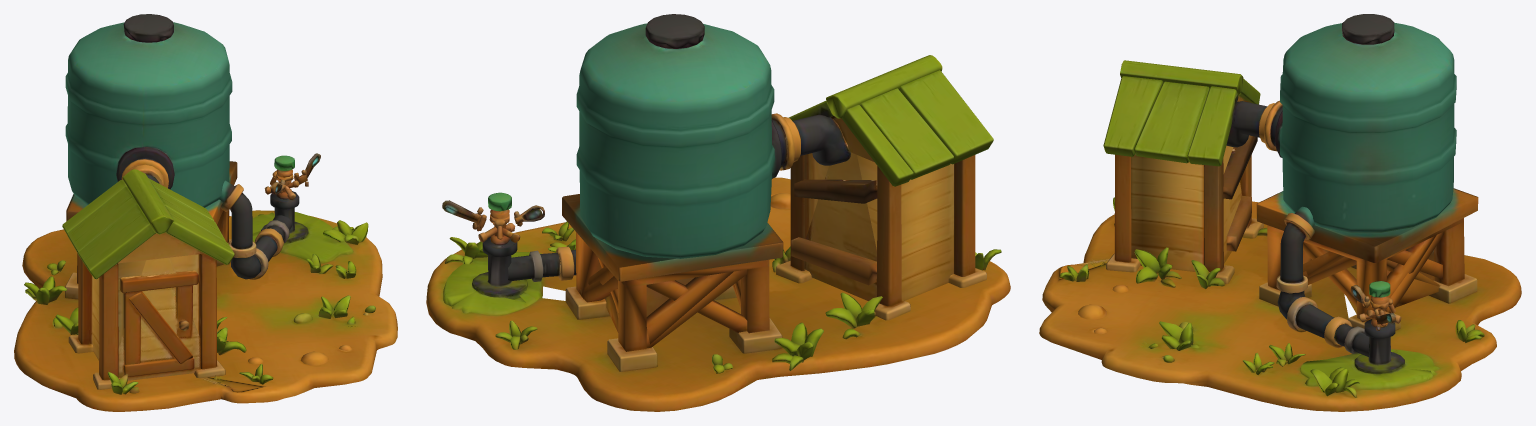
3 renders of one model, left to right at view 1: azimuth 30°, elevation 25°; view 2: azimuth 150°, elevation 25°; view 3: azimuth 270°, elevation 25°, orthographic. The views are drawn at different scales.
Parts seen in each view (by area): view 1: tripo_node_eed7be55-f58a-428d-a536-4987d4330459; view 2: tripo_node_eed7be55-f58a-428d-a536-4987d4330459; view 3: tripo_node_eed7be55-f58a-428d-a536-4987d4330459.
Part boxes in pixels (box(x1,y1,x2,y2)): tripo_node_eed7be55-f58a-428d-a536-4987d4330459: box(14, 14, 397, 411); tripo_node_eed7be55-f58a-428d-a536-4987d4330459: box(426, 14, 1010, 411); tripo_node_eed7be55-f58a-428d-a536-4987d4330459: box(1039, 14, 1521, 411).
Bounding box in the file's own units: 4.6 × 2.99 × 4.59.
Materials: 1 (1 with a texture image).
